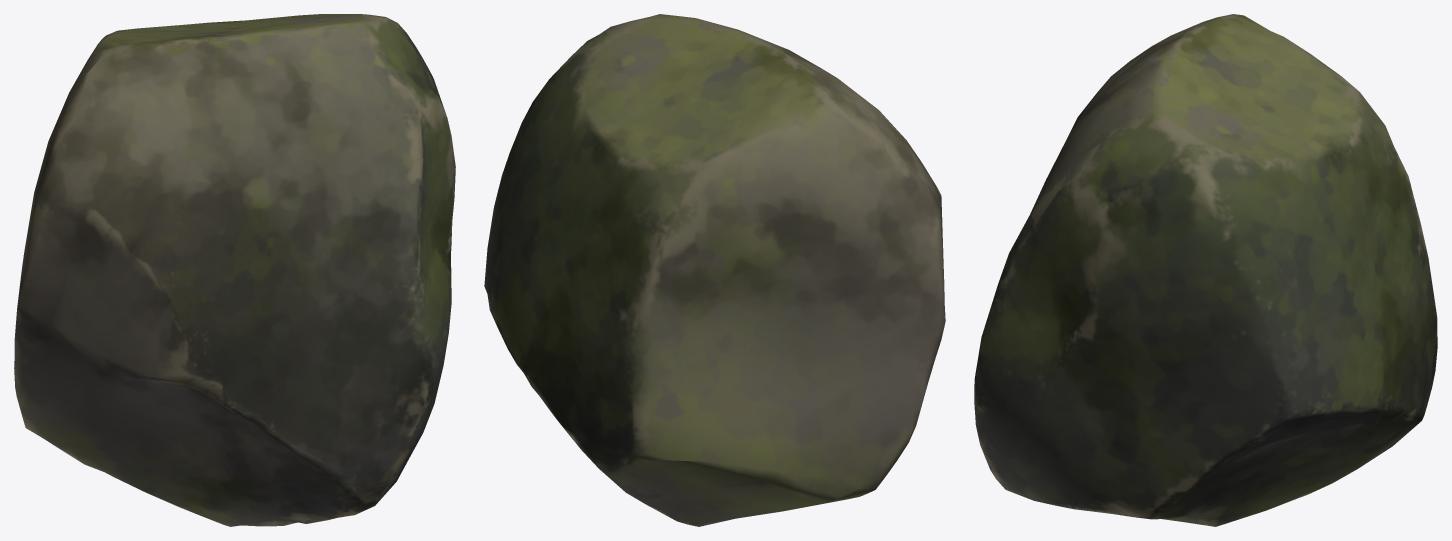
File: SM_Rock_02.fbx
3 renders of one model, left to right at view 1: azimuth 30°, elevation 25°; view 2: azimuth 150°, elevation 25°; view 3: azimuth 270°, elevation 25°, orthographic. The views are drawn at different scales.
Visible parts, largest first — view 1: SM_Rock_02_LOD0; view 2: SM_Rock_02_LOD0; view 3: SM_Rock_02_LOD0.
Boxes of the visible parts, x1,y1,x2,y2 form: SM_Rock_02_LOD0: [14, 14, 455, 526]; SM_Rock_02_LOD0: [484, 14, 945, 526]; SM_Rock_02_LOD0: [974, 14, 1437, 526].
Bounding box in the file's own units: 164 × 155 × 175.
Materials: 1 (1 with a texture image).
